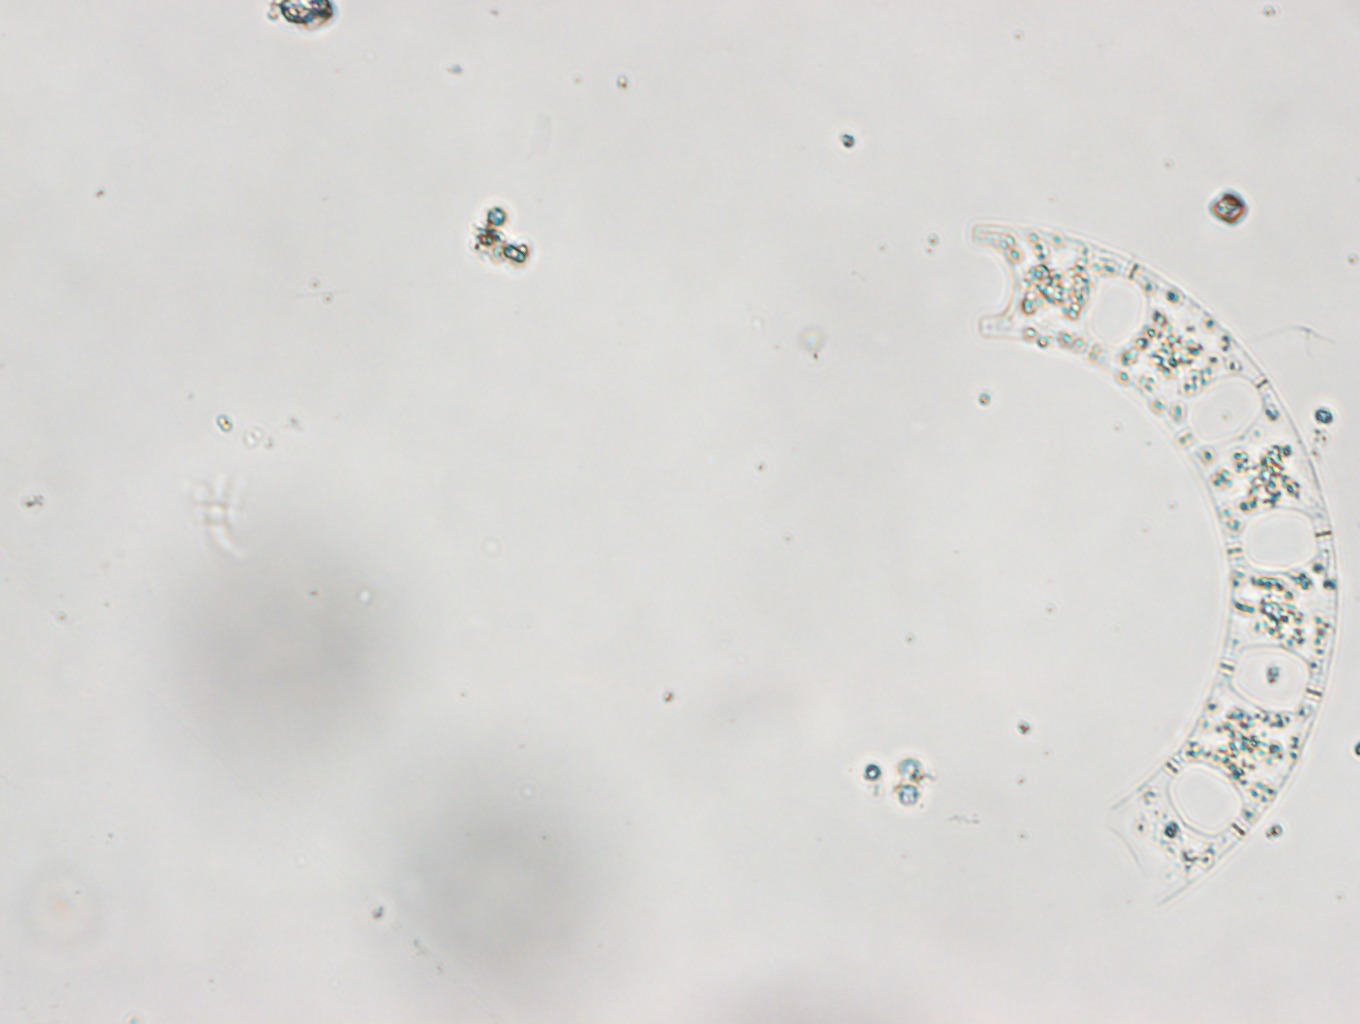eucampia: (963, 222, 1340, 914)
